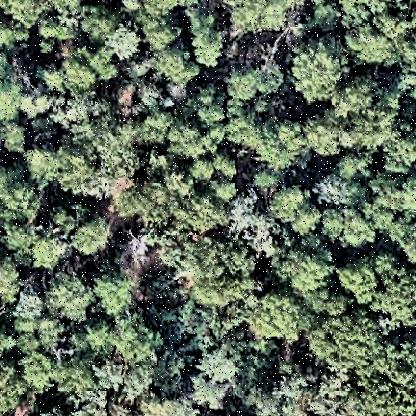tree-top: (337, 251, 416, 329), (182, 230, 259, 306), (338, 1, 416, 73), (167, 80, 229, 161), (309, 310, 383, 374), (361, 334, 416, 416), (221, 192, 287, 258), (287, 38, 351, 106), (345, 76, 400, 154), (25, 139, 105, 187), (58, 202, 124, 258), (369, 170, 416, 248), (253, 285, 311, 347), (56, 45, 122, 99), (275, 237, 335, 294), (8, 224, 72, 275), (265, 183, 325, 237), (181, 3, 230, 69), (217, 57, 285, 104), (46, 269, 100, 325), (301, 103, 350, 159), (93, 265, 137, 321), (256, 120, 302, 170), (227, 1, 290, 37), (4, 168, 47, 217), (335, 205, 382, 249), (105, 20, 147, 64), (186, 373, 230, 415), (8, 279, 50, 323), (120, 321, 163, 363), (198, 349, 245, 385), (19, 353, 57, 395), (6, 1, 55, 31), (2, 117, 34, 149)
